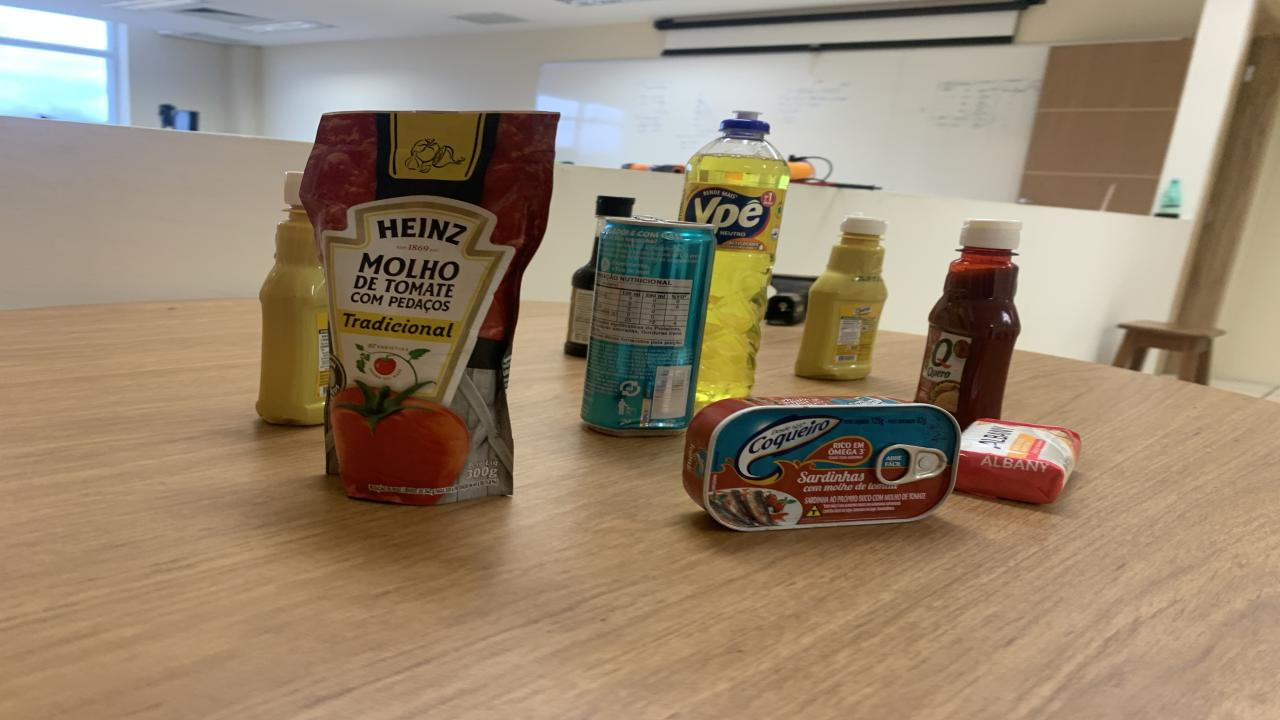Detergent-Cleanup_Items: (680, 111, 790, 409)
English_Sauce-Pantry_Items: (565, 195, 635, 356)
Ketchup-Pantry_Items: (915, 218, 1022, 429)
Mustard-Pantry_Items: (255, 172, 330, 426), (795, 216, 888, 381)
Soap-Cleanup_Items: (955, 418, 1080, 504)
Tea-Drinks: (580, 218, 715, 435)
Tomato_Sauce-Pantry_Items: (300, 111, 558, 506)
Tuna_Can-Pantry_Items: (682, 396, 960, 531)
